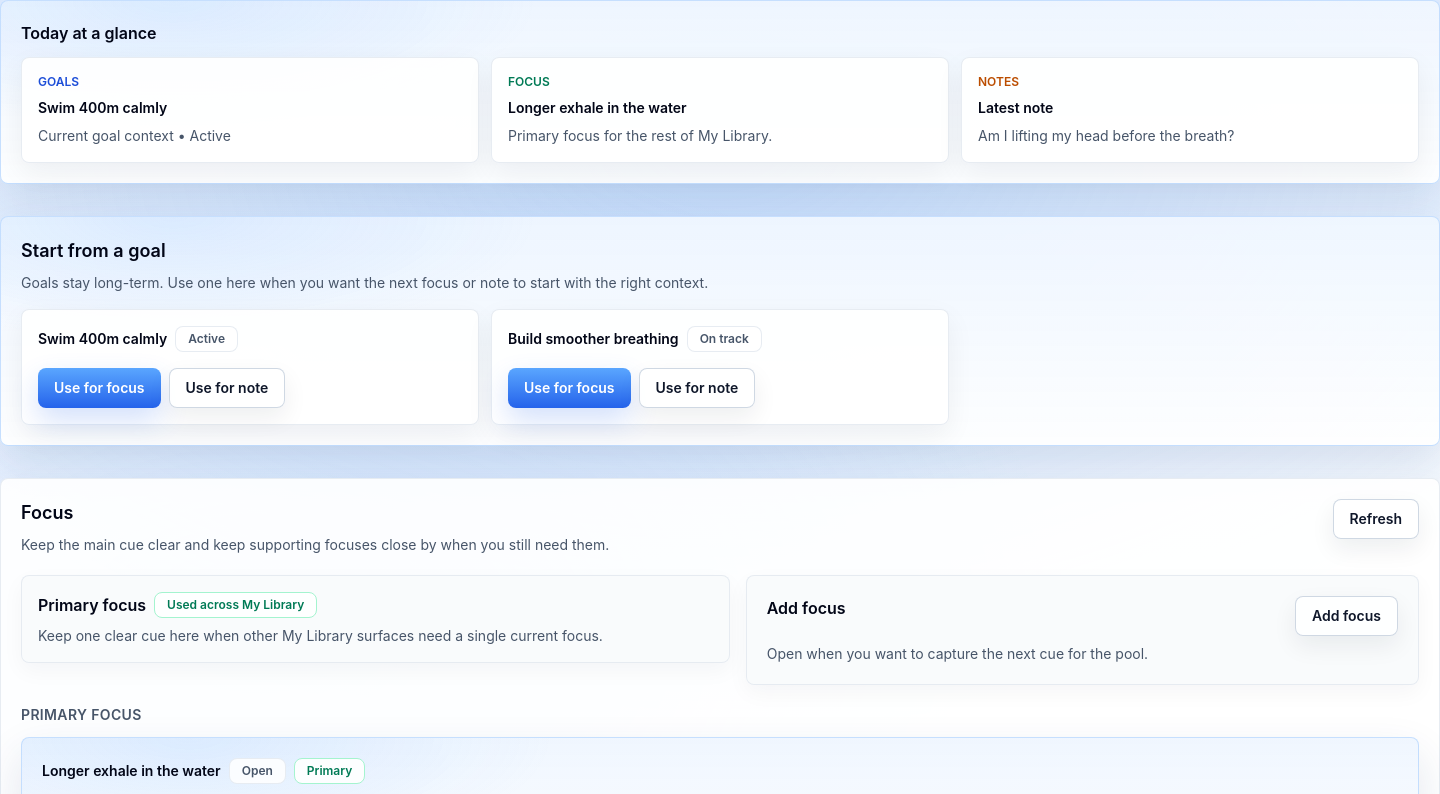
Scenario: TrainingContextHub › lets the user pick another goal for the note workflow from quick actions
What coordinates should you click on to do the following:
click the button with test id "training-goal-context-use-note-goal-2"
I would click on:
 (697, 388)
Its box is [639,368,755,408].
(page scrolled)
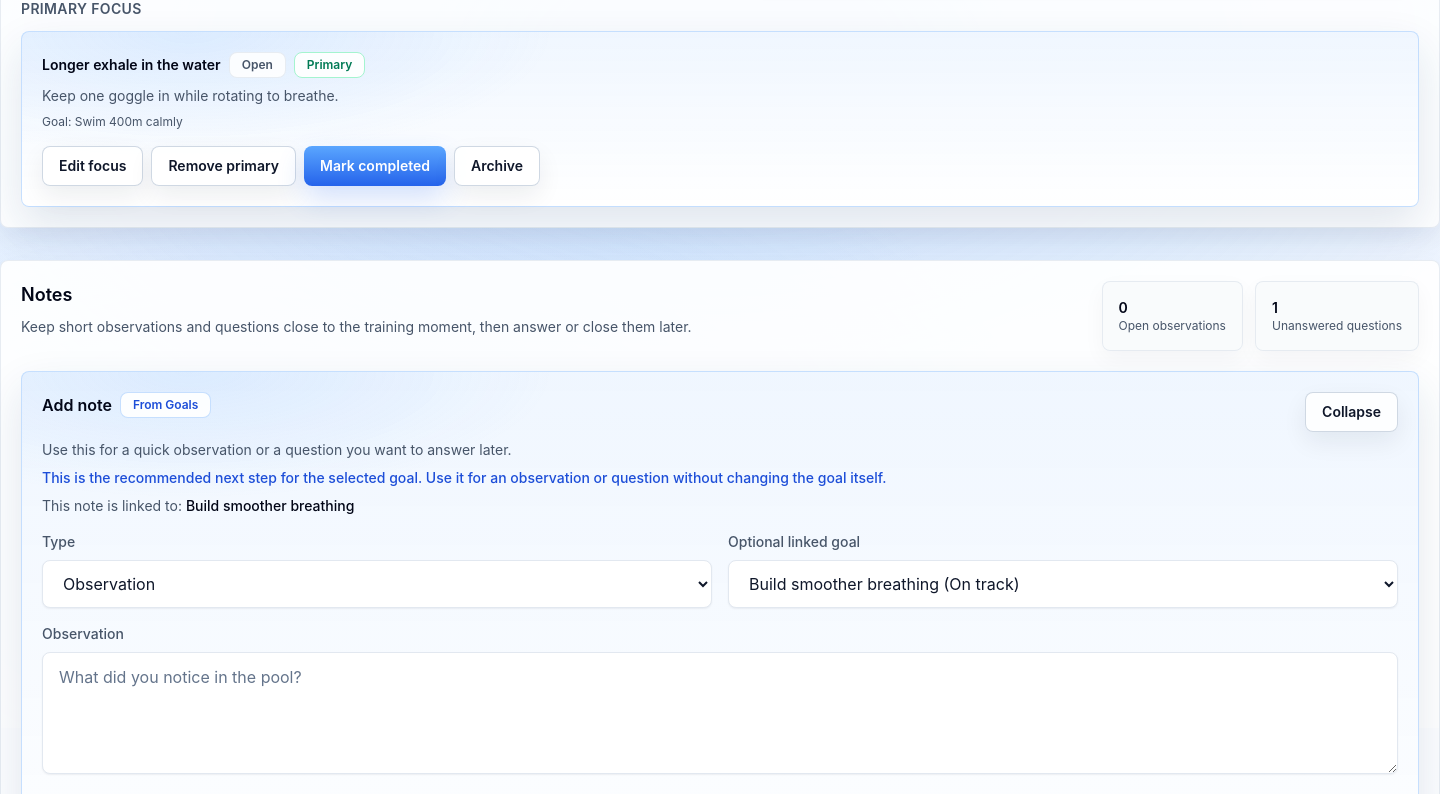
Result: the dropdown with test id "training-note-goal-select" shows "Build smoother breathing (On track)" at [728,560,1398,608]
Result: the text "From Goals" is shown at [120,392,211,418]
